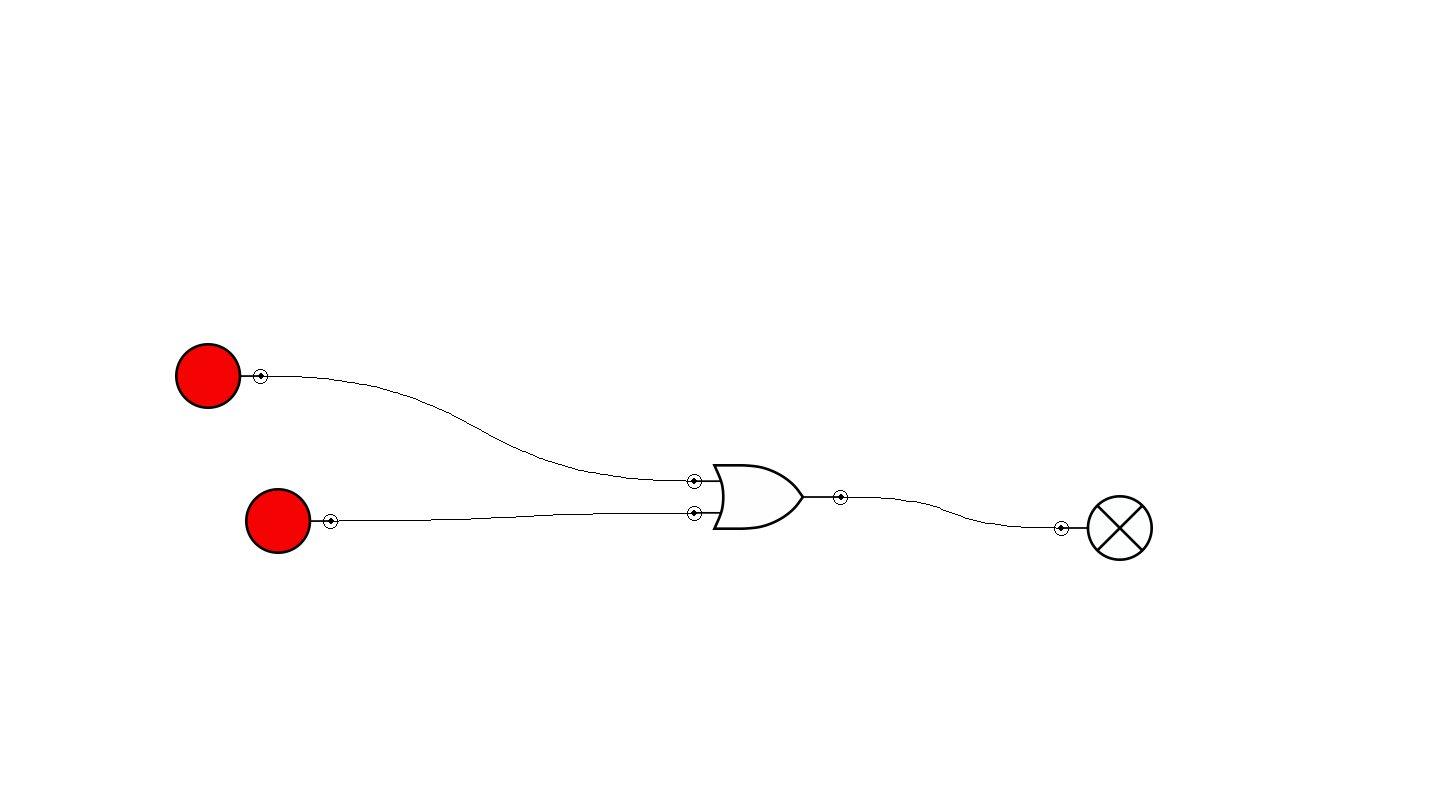bulb: (1054, 495, 1153, 561)
or: (687, 464, 848, 530)
switch_False: (245, 488, 338, 554), (175, 343, 268, 409)
